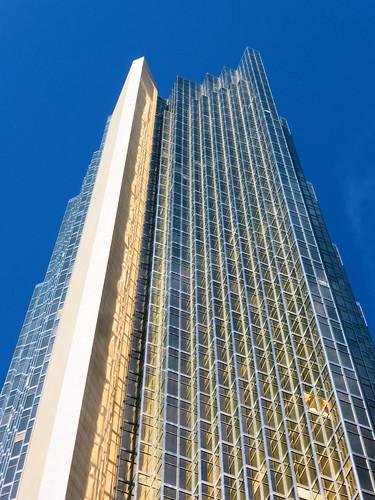building: (2, 42, 375, 500)
